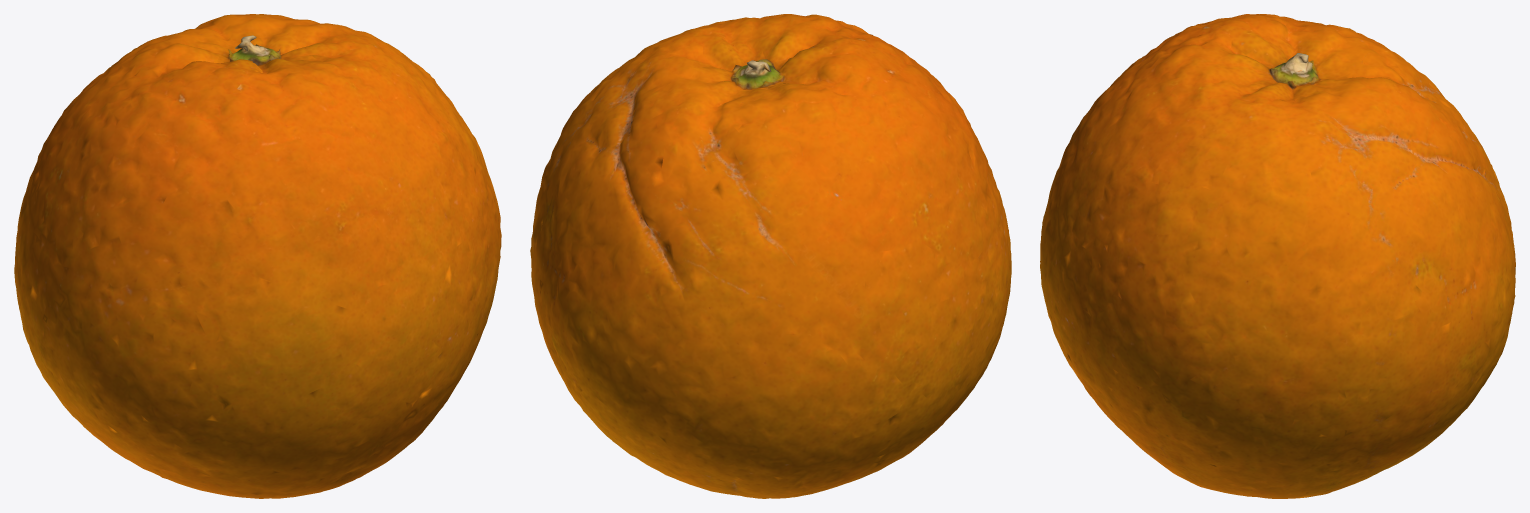
The model's file is orange.glb.
3 views of the same model, side by side, from view 1: azimuth 30°, elevation 25°; view 2: azimuth 150°, elevation 25°; view 3: azimuth 270°, elevation 25° (orthographic). The views are drawn at different scales.
Visible parts, largest first — view 1: fr_largeOrange; view 2: fr_largeOrange; view 3: fr_largeOrange.
Part boxes in pixels (x1,y1,x2,y2): fr_largeOrange: (14,14,501,498); fr_largeOrange: (530,14,1011,498); fr_largeOrange: (1040,14,1515,498).
Size of the model in its own units: 0.0867 by 0.0855 by 0.0873.
1 material, 1 textured.
